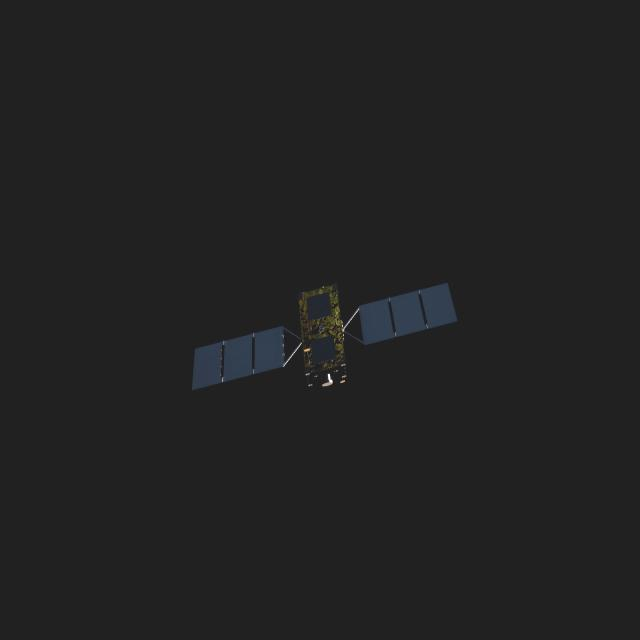satellite: (192, 283, 457, 390)
